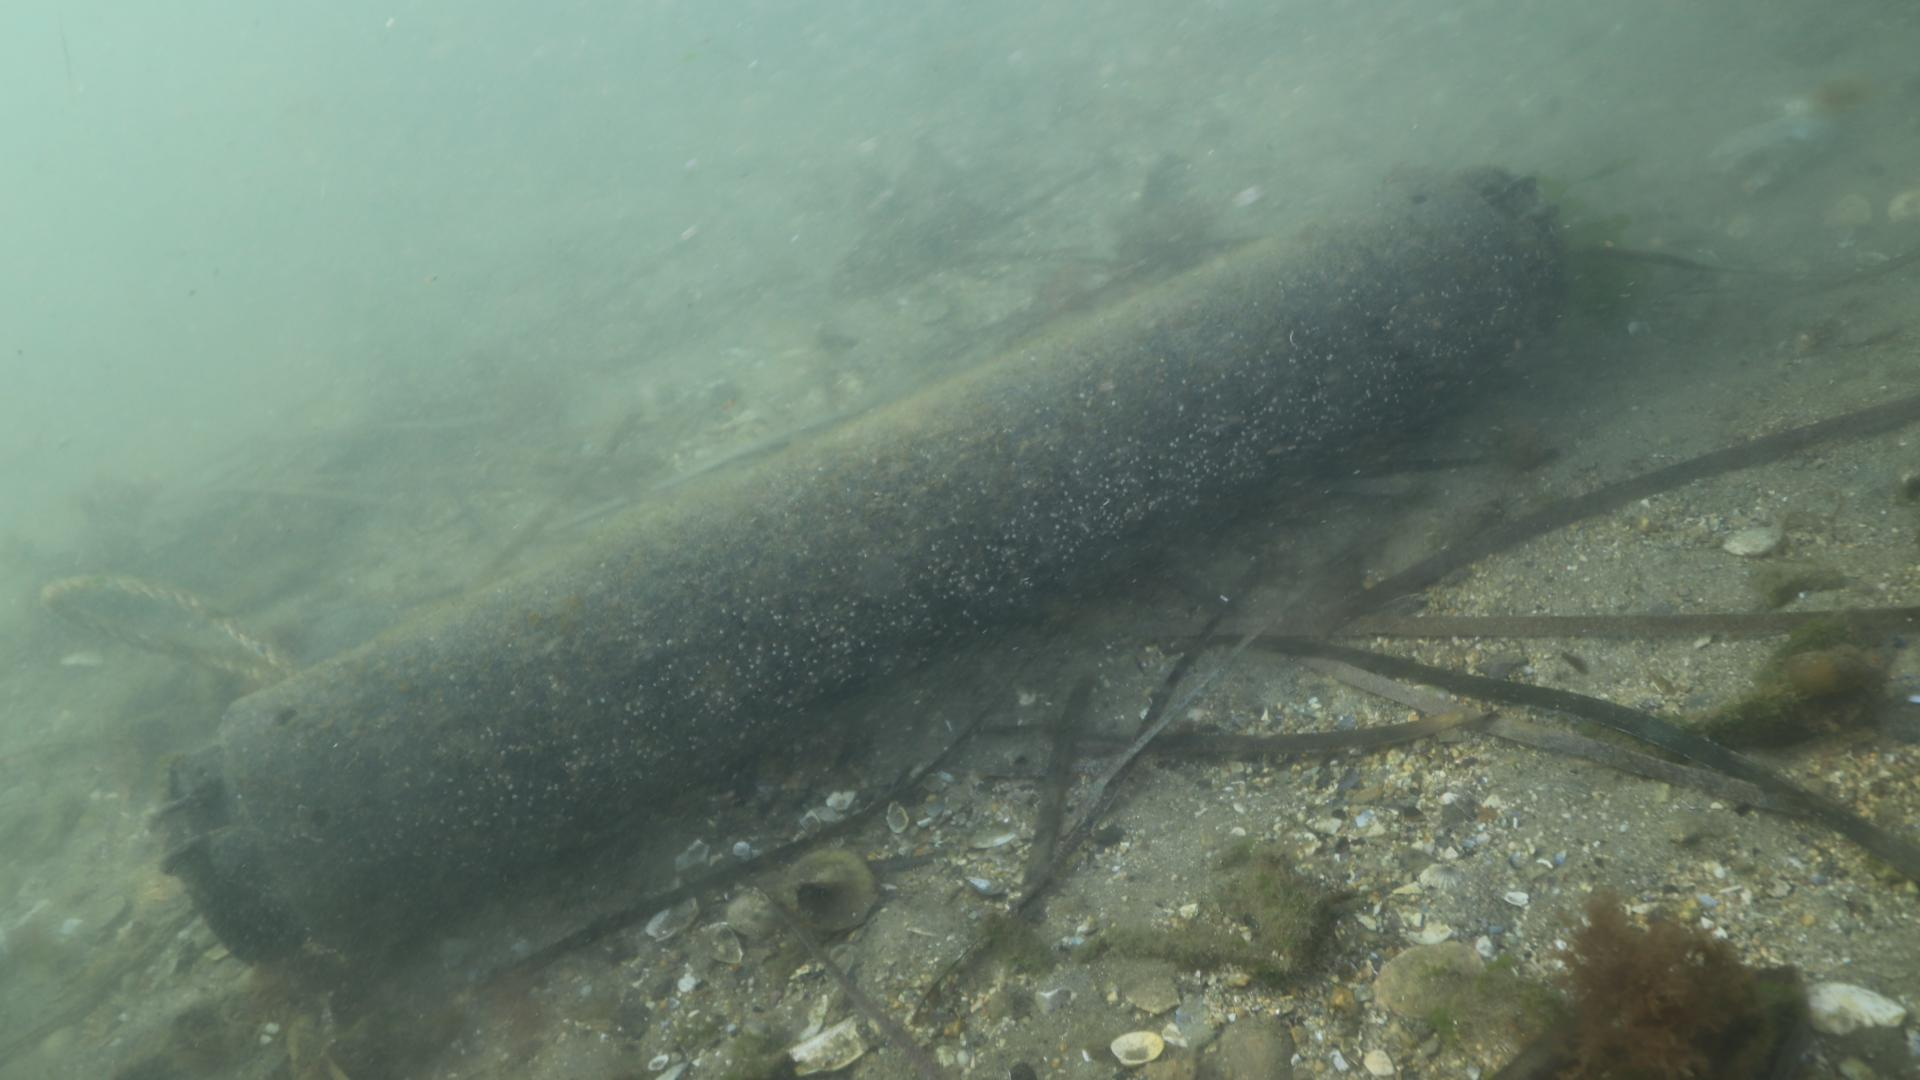eel fish trap: (146, 164, 1568, 972)
rope: (36, 566, 306, 684)
